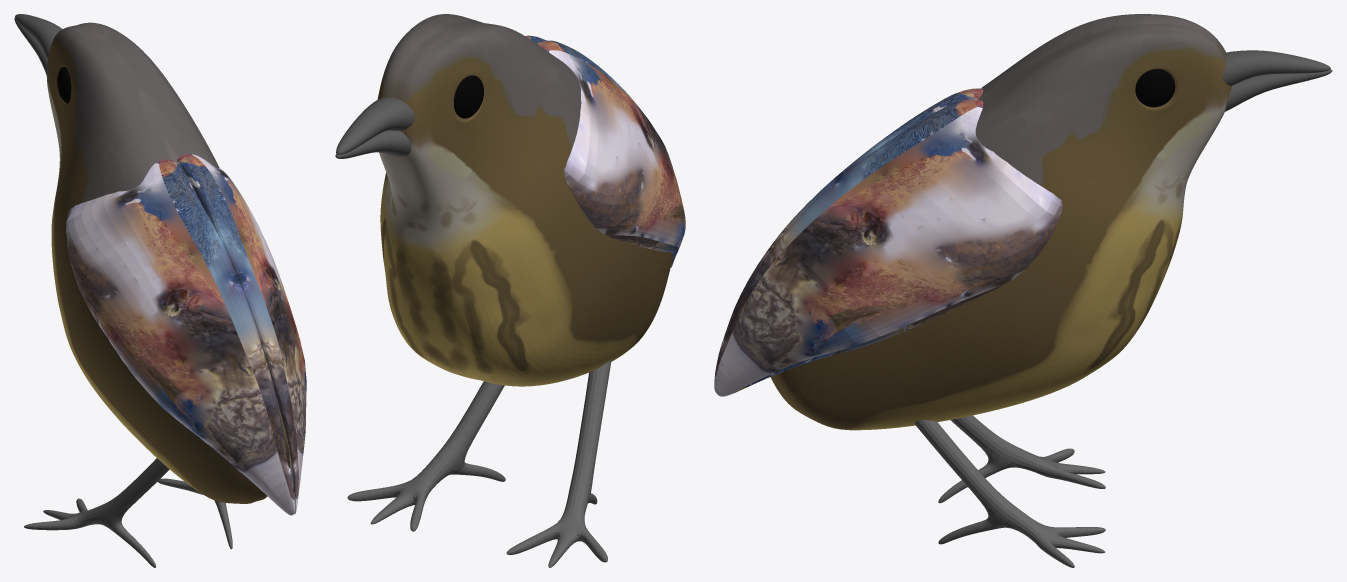
The model's file is Bird2.fbx.
3 views of the same model, side by side, from view 1: azimuth 30°, elevation 25°; view 2: azimuth 150°, elevation 25°; view 3: azimuth 270°, elevation 25° (orthographic). The views are drawn at different scales.
Parts seen in each view (by area): view 1: Cube.007, Cube.002, Cube.004, Cube, Icosphere, Cube.005; view 2: Cube.002, Cube.007, Cube.004, Cube, Cube.005, Icosphere; view 3: Cube.002, Cube.007, Cube.004, Cube, Cube.005, Icosphere.
Part boxes in pixels (box(x1,y1,x2,y2)): Cube.007: box(66, 154, 306, 515); Cube.002: box(46, 22, 289, 503); Cube.004: box(24, 458, 232, 567); Cube: box(15, 14, 62, 59); Icosphere: box(57, 66, 71, 103); Cube.005: box(14, 18, 47, 74); Cube.002: box(377, 14, 672, 386); Cube.007: box(525, 35, 685, 268); Cube.004: box(347, 360, 611, 567); Cube: box(336, 97, 414, 154); Cube.005: box(335, 130, 411, 158); Icosphere: box(454, 75, 483, 118); Cube.002: box(770, 14, 1231, 430); Cube.007: box(714, 88, 1062, 396); Cube.004: box(914, 415, 1105, 567); Cube: box(1223, 50, 1330, 85); Cube.005: box(1225, 69, 1332, 111); Icosphere: box(1135, 69, 1175, 107).
Size of the model in its own units: 124 by 247 by 277.
